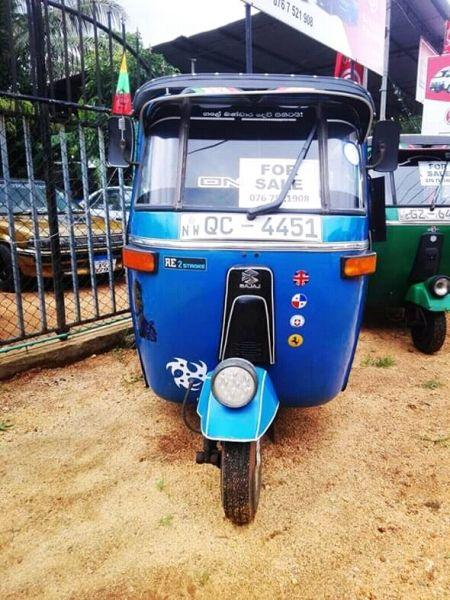threewheel: (103, 74, 397, 527), (366, 135, 450, 352)
